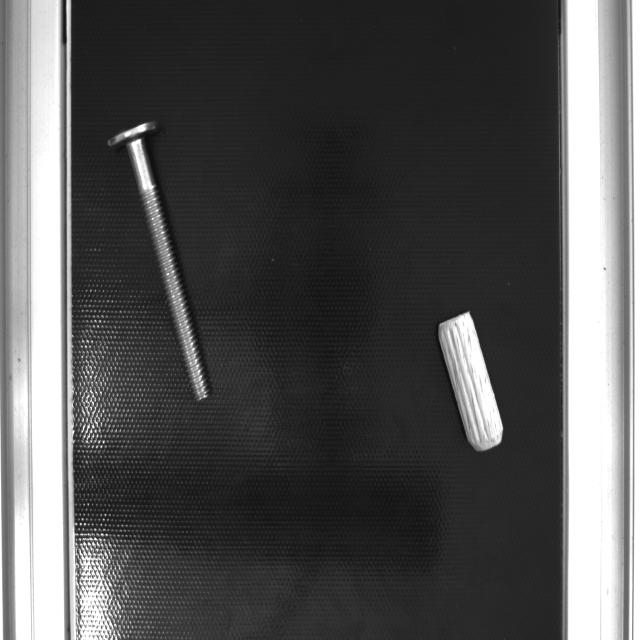Chot go: (436, 309, 511, 459)
bulon: (126, 138, 213, 404)
